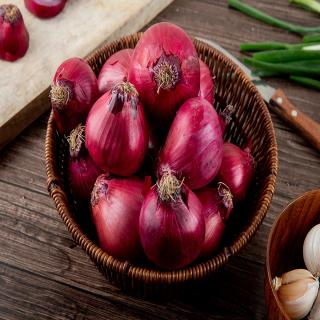Bawang Merah: (50, 23, 259, 271)
